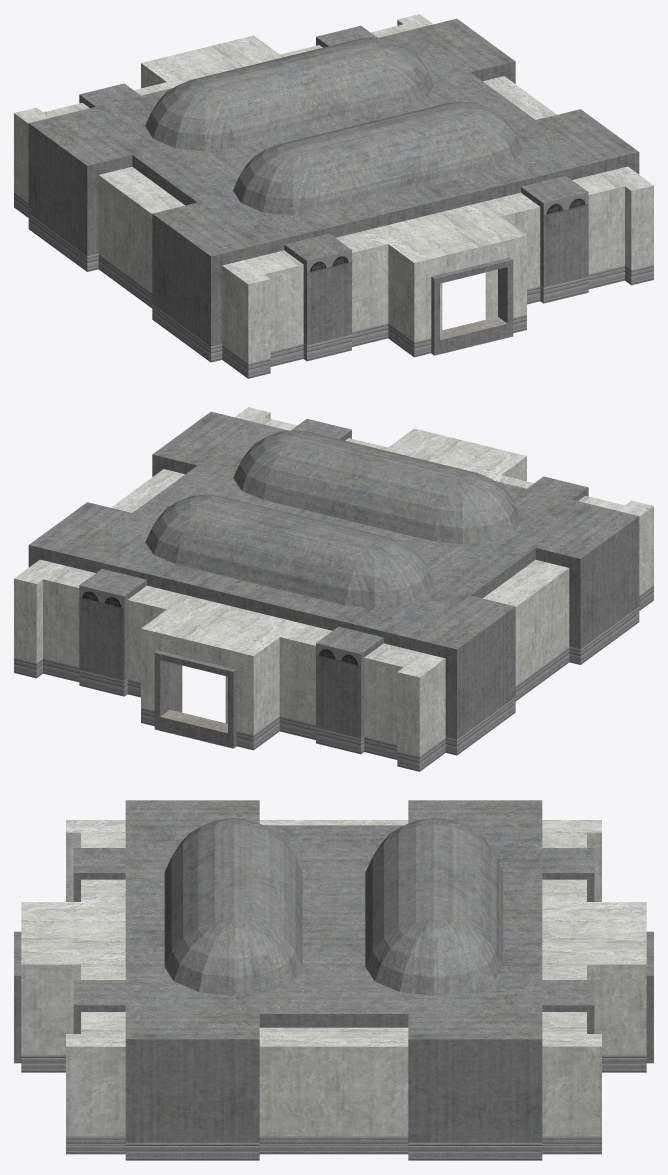
File: mun_corl_hospital_s02_r0_mesh_l0.fbx
3 views of the same model, one above another, from view 1: azimuth 30°, elevation 25°; view 2: azimuth 150°, elevation 25°; view 3: azimuth 270°, elevation 25° (orthographic). The views are drawn at different scales.
Parts seen in each view (by area): view 1: mesh_node; view 2: mesh_node; view 3: mesh_node.
Part boxes in pixels (x1,y1,x2,y2): mesh_node: (14, 14, 653, 378); mesh_node: (14, 407, 653, 771); mesh_node: (14, 800, 653, 1160).
Bounding box in the file's own units: 38 × 12.56 × 43.
